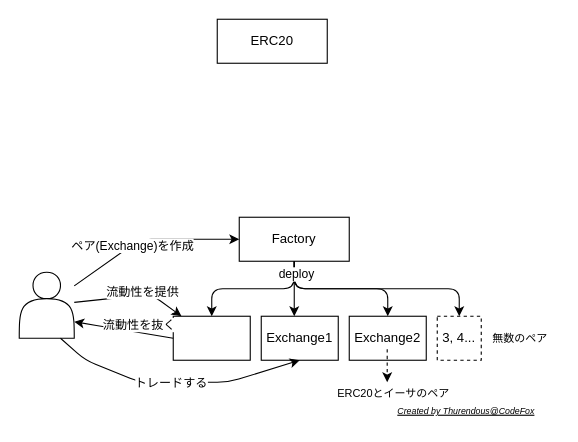
The diagram is 578 pixels wide and 442 high, and some of its shapes have lost their labels. The shapes that lost their labels are listed below. From the top down, each one's centre as x and y in pixels, then its label:
At pixel 46 304: "User".
At pixel 211 337: "Exchang0".
